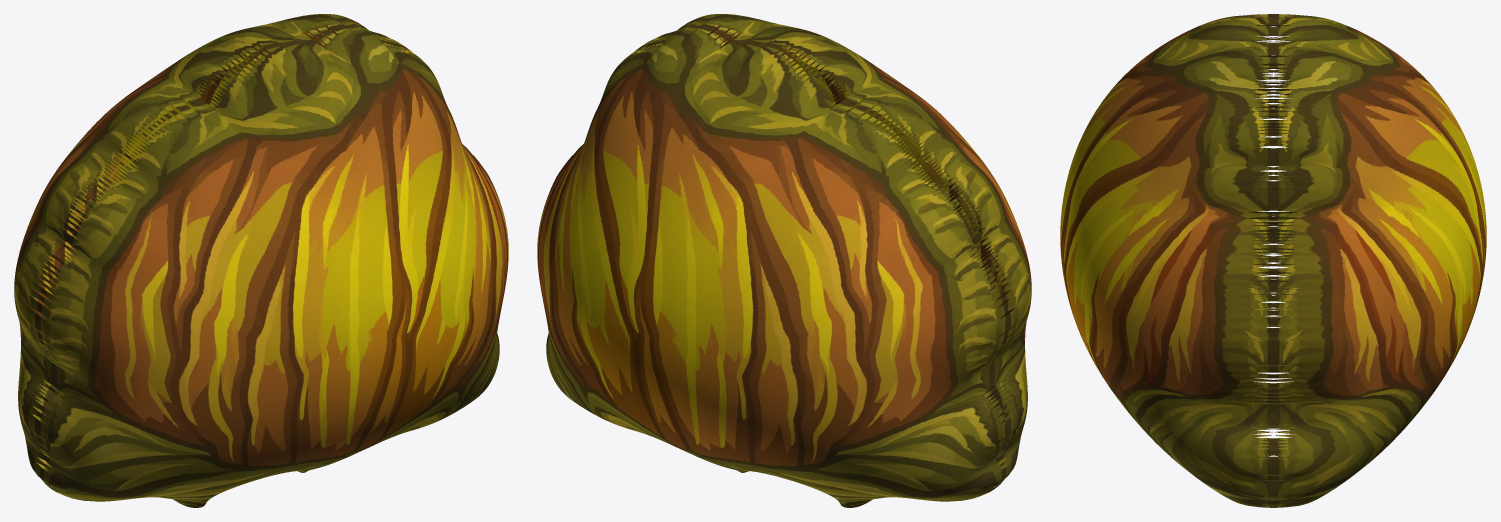
The model's file is ribbed_trunk.glb.
3 views of the same model, side by side, from view 1: azimuth 30°, elevation 25°; view 2: azimuth 150°, elevation 25°; view 3: azimuth 270°, elevation 25° (orthographic). The views are drawn at different scales.
Parts seen in each view (by area): view 1: ribbed_trunk; view 2: ribbed_trunk; view 3: ribbed_trunk.
Part boxes in pixels (x1=…): ribbed_trunk: x1=14, y1=14, x2=508, y2=507; ribbed_trunk: x1=537, y1=14, x2=1031, y2=507; ribbed_trunk: x1=1060, y1=14, x2=1486, y2=507.
Size of the model in its own units: 0.9889 by 0.8625 by 0.801.
1 material, 1 textured.
